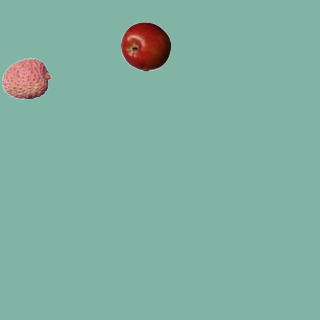Apple Braeburn: (120, 21, 170, 71)
Lychee: (1, 53, 51, 103)
